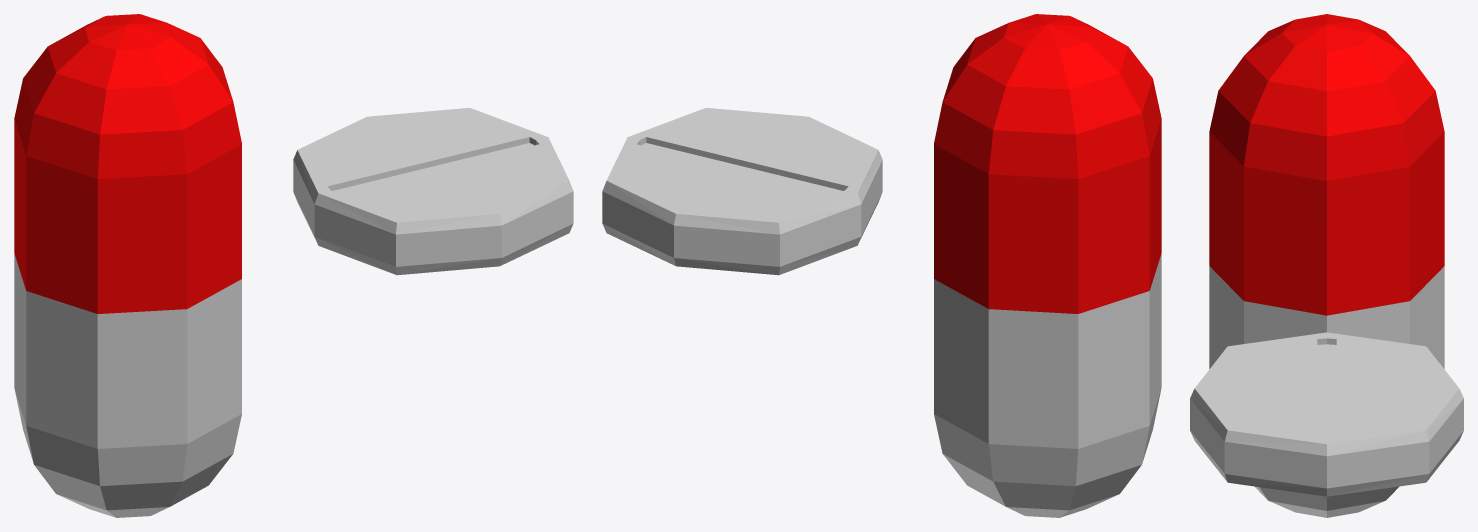
Rendered from pill-b.glb.
3 views of the same model, side by side, from view 1: azimuth 30°, elevation 25°; view 2: azimuth 150°, elevation 25°; view 3: azimuth 270°, elevation 25° (orthographic).
Parts seen in each view (by area): view 1: Node; view 2: Node; view 3: Node.
Part boxes in pixels (box(x1,y1,x2,y2)): Node: box(14, 14, 573, 517); Node: box(602, 14, 1161, 517); Node: box(1190, 14, 1463, 517).
Bounding box in the file's own units: 5.15 × 4.52 × 2.33.
